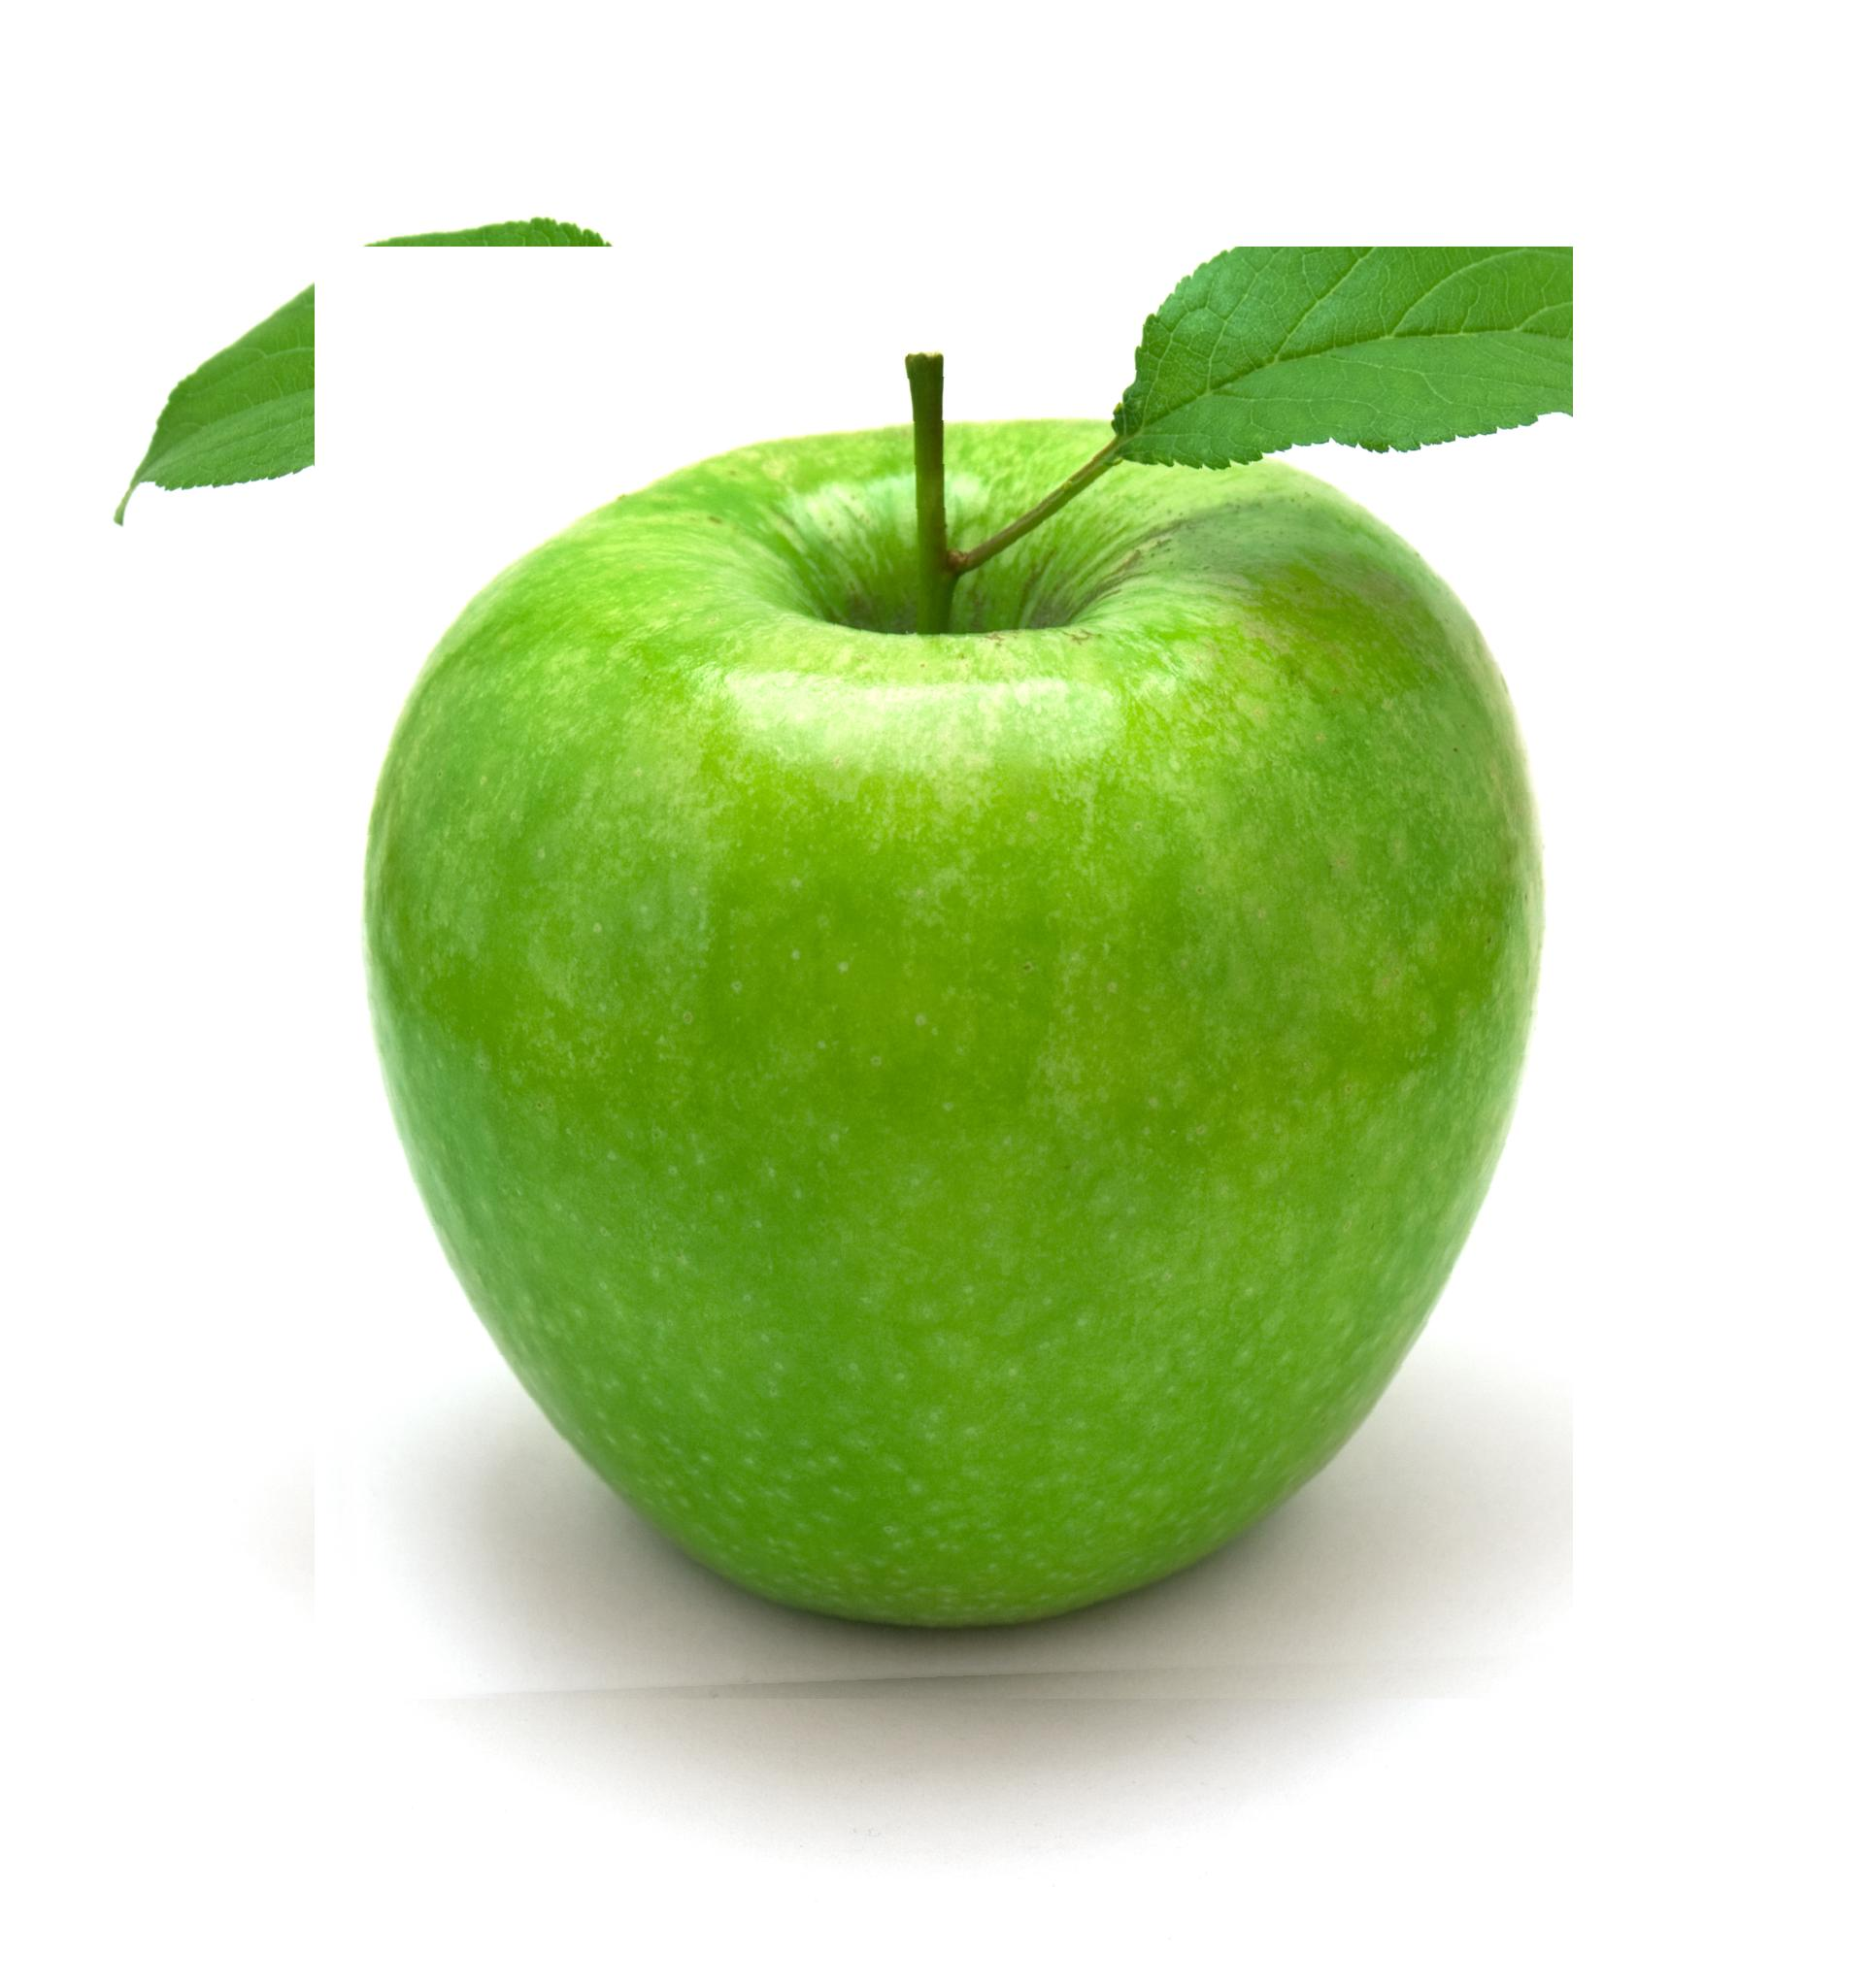Apple Fresh: (315, 246, 1572, 1698)
